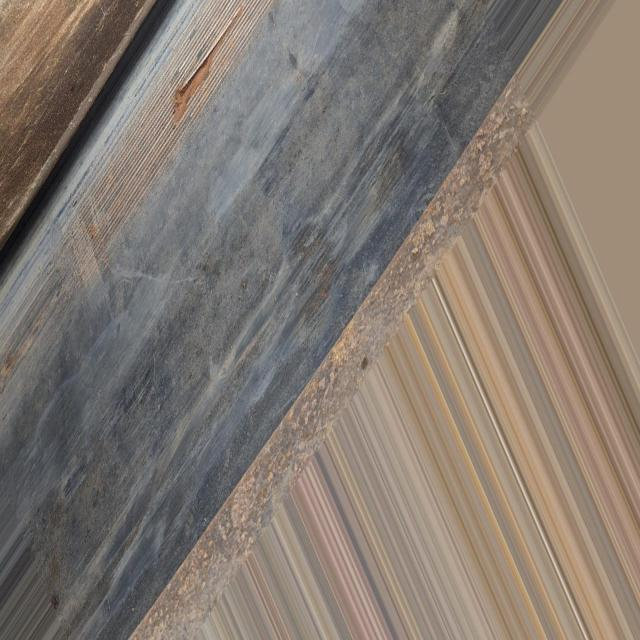Wear: (51, 0, 269, 277)
